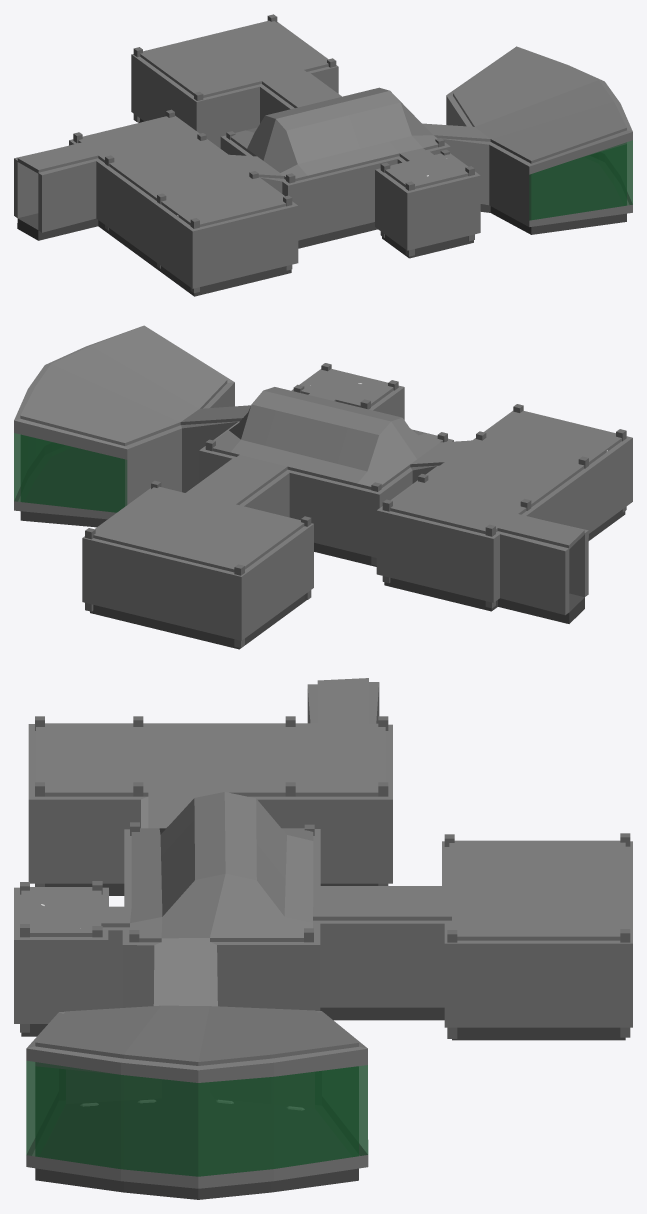
File: lab 09.fbx
3 renders of one model, top to bottom at view 1: azimuth 30°, elevation 25°; view 2: azimuth 150°, elevation 25°; view 3: azimuth 270°, elevation 25°, orthographic. The views are drawn at different scales.
Parts seen in each view (by area): view 1: lab, lab ceiling.001, lab floor; view 2: lab ceiling.001, lab, lab floor; view 3: lab, lab ceiling.001, lab floor.
Part boxes in pixels (x1,y1,x2,y2): lab: [14, 14, 632, 293]; lab ceiling.001: [17, 20, 626, 226]; lab floor: [17, 118, 626, 296]; lab ceiling.001: [20, 326, 621, 572]; lab: [14, 325, 632, 647]; lab floor: [20, 447, 625, 649]; lab: [14, 682, 632, 1188]; lab ceiling.001: [21, 678, 625, 1065]; lab floor: [21, 883, 625, 1199].
Size of the model in its own units: 214 by 48.43 by 148.
